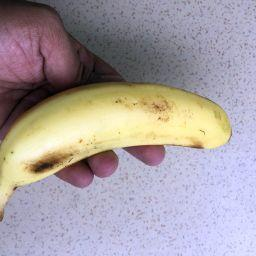Banana Ripe: (3, 72, 232, 207)
